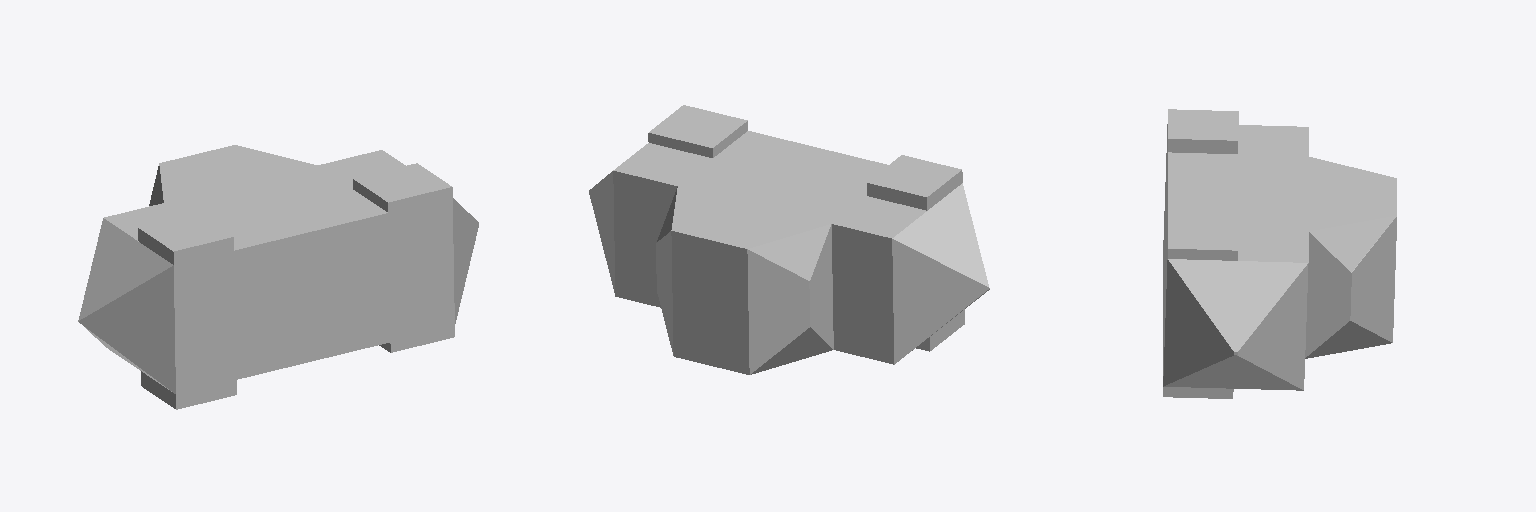
The model's file is car.obj.
3 renders of one model, left to right at view 1: azimuth 30°, elevation 25°; view 2: azimuth 150°, elevation 25°; view 3: azimuth 270°, elevation 25°, orthographic.
Parts seen in each view (by area): view 1: Cube_Cube.001; view 2: Cube_Cube.001; view 3: Cube_Cube.001.
Part boxes in pixels (bbox=[...]): Cube_Cube.001: bbox=[78, 145, 478, 409]; Cube_Cube.001: bbox=[589, 105, 989, 374]; Cube_Cube.001: bbox=[1163, 109, 1396, 398].
Size of the model in its own units: 6.55 by 2.48 by 3.33.